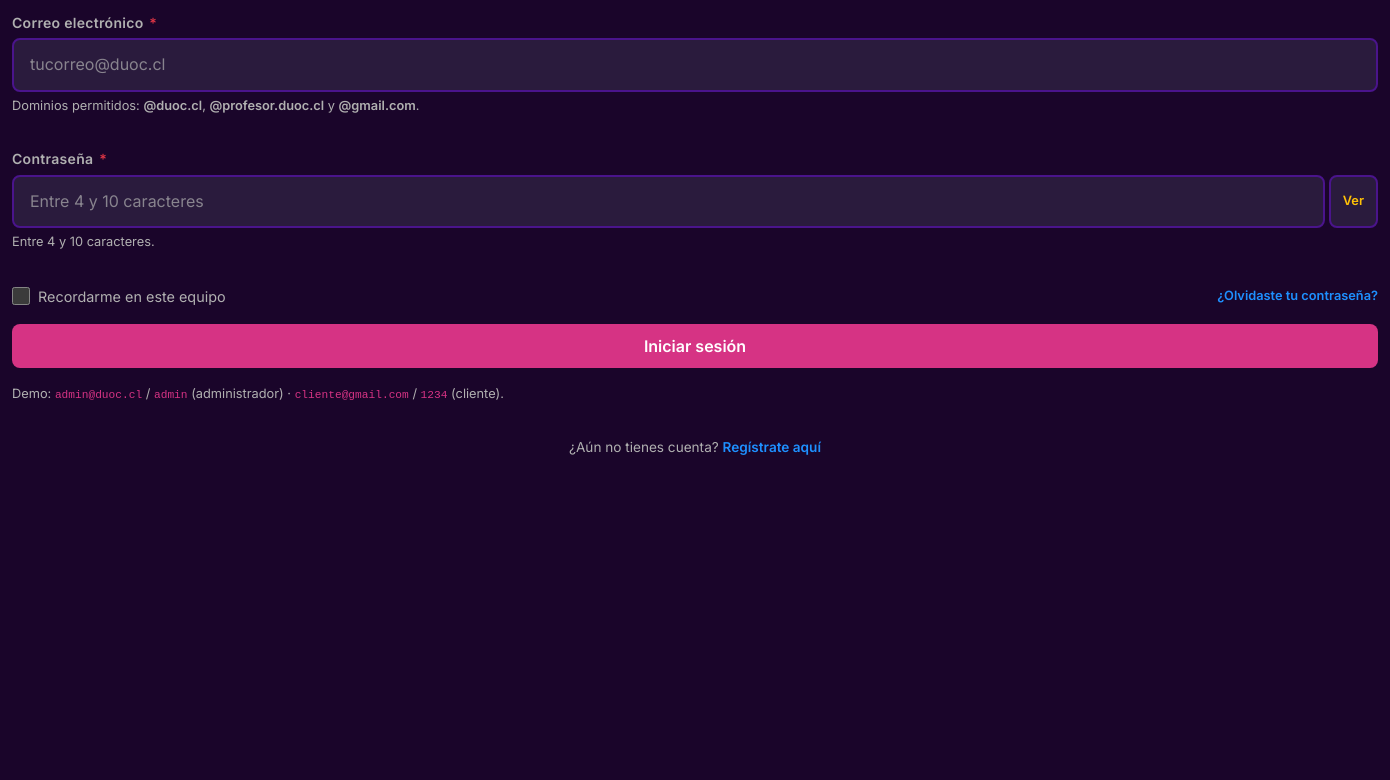
Test case: <FormularioLogin /> › RENDERIZADO CONDICIONAL: el formulario vacío muestra errores de validación
The image size is (1390, 780).
What coordinates should you click on to do the following:
click the button "Iniciar sesión"
I would click on:
 (695, 346)
Its box is [12,324,1378,368].
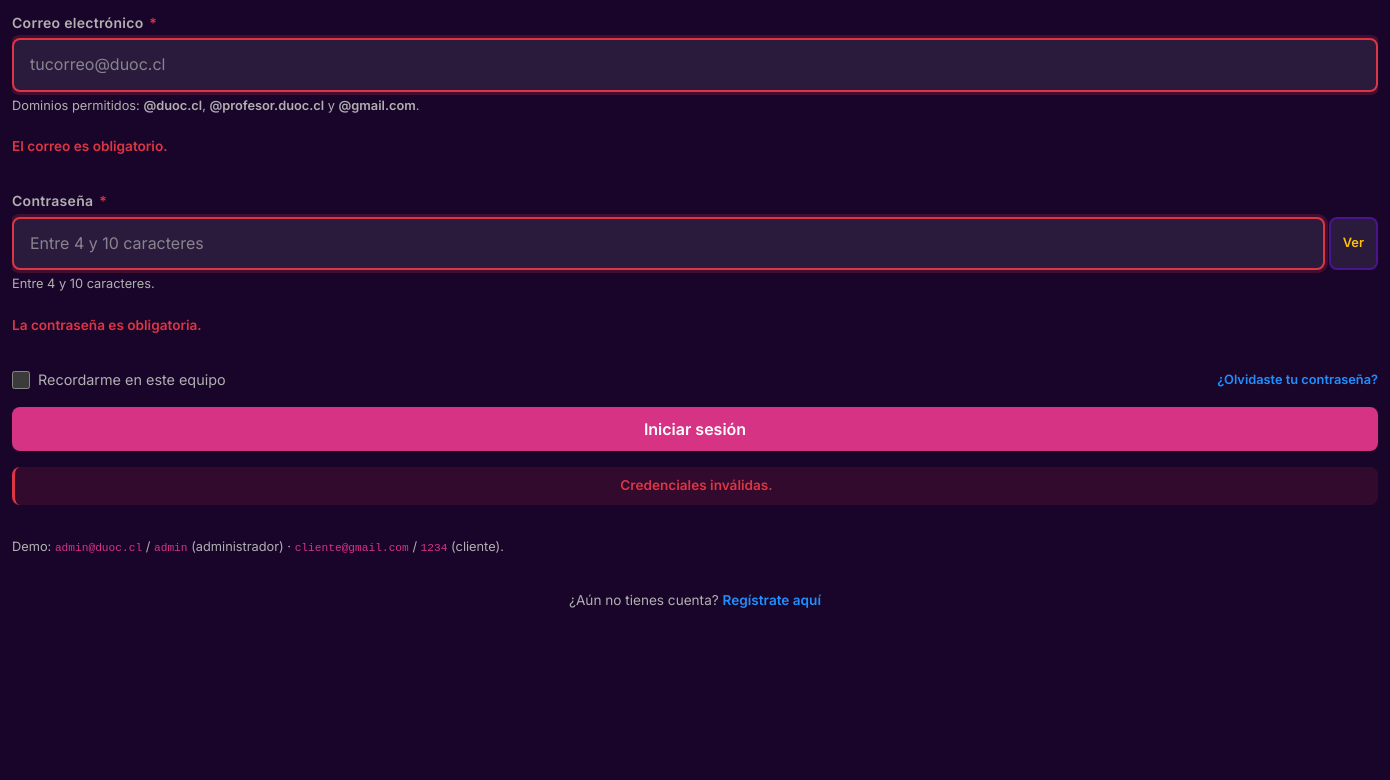
Check: the message "El correo es obligatorio." is shown, box [12,138,168,154]
